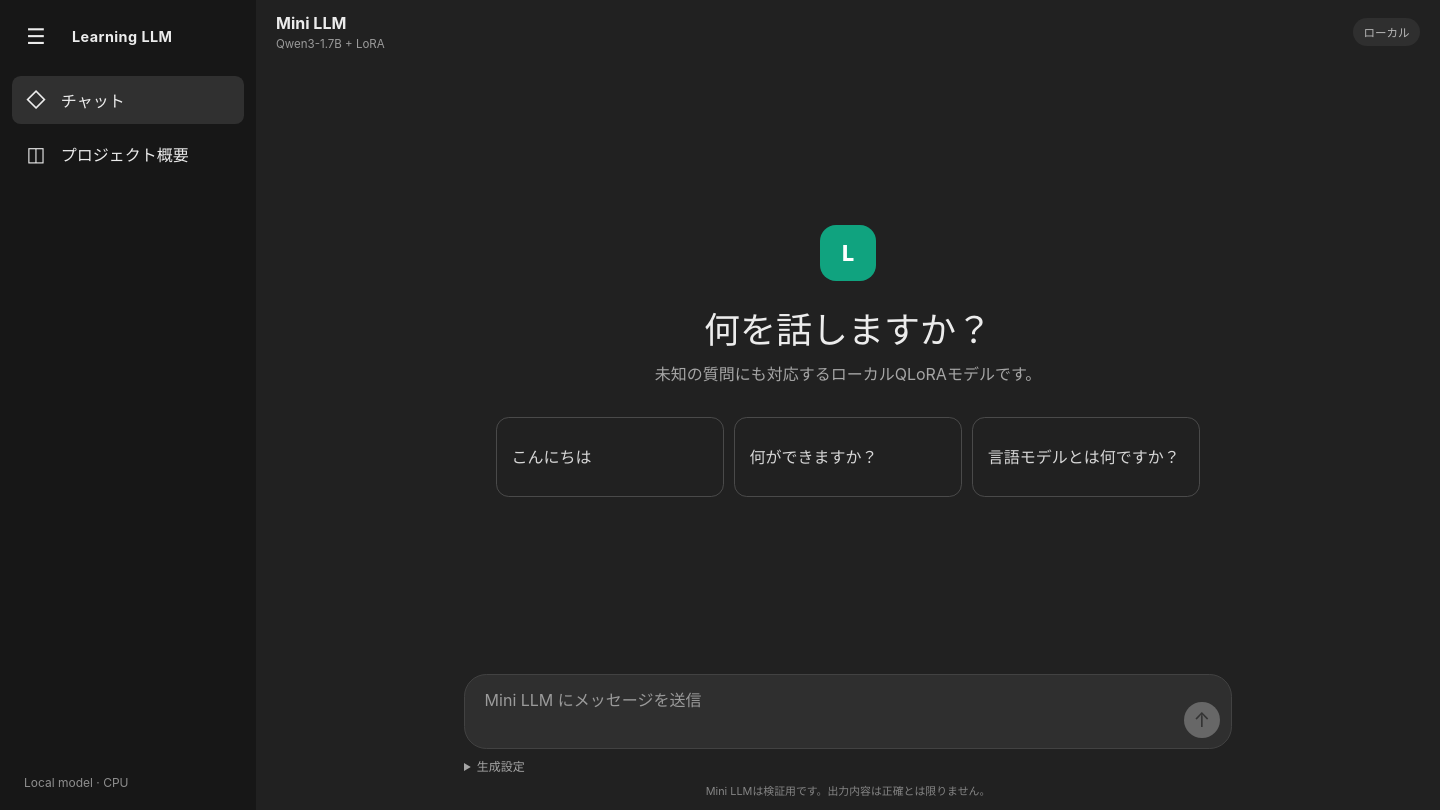
Scenario: App › 左メニューでチャットと概要画面を切り替える
The image size is (1440, 810).
Check: the heading "Mini LLM" is shown, box [276,13,346,33]
Click the button "◫ プロジェクト概要": (128,154) [12,130,244,178]
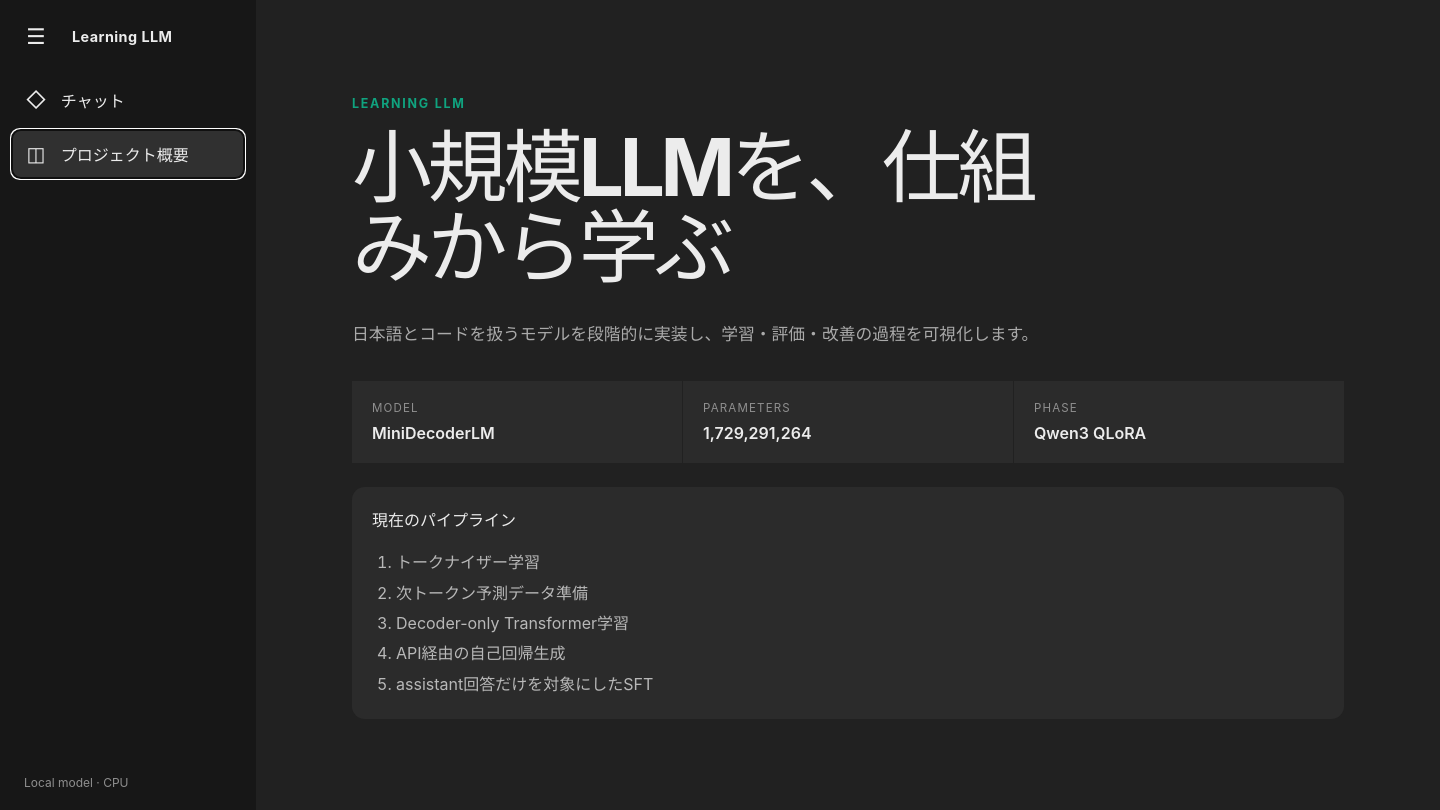
Check: the heading "小規模LLMを、仕組みから学ぶ" is shown, box [352,127,1053,287]
Check: the text "MiniDecoderLM" is shown, box [372,423,495,443]
Check: the text "1,729,291,264" is shown, box [703,423,812,443]
